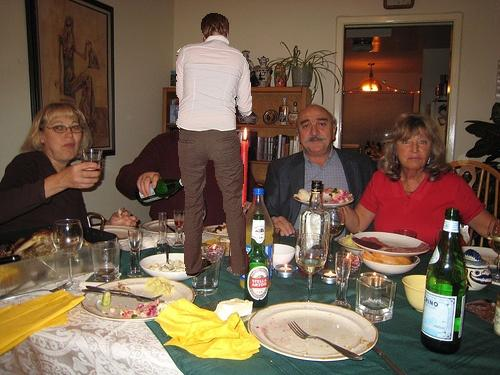tampered: (176, 14, 252, 277)
